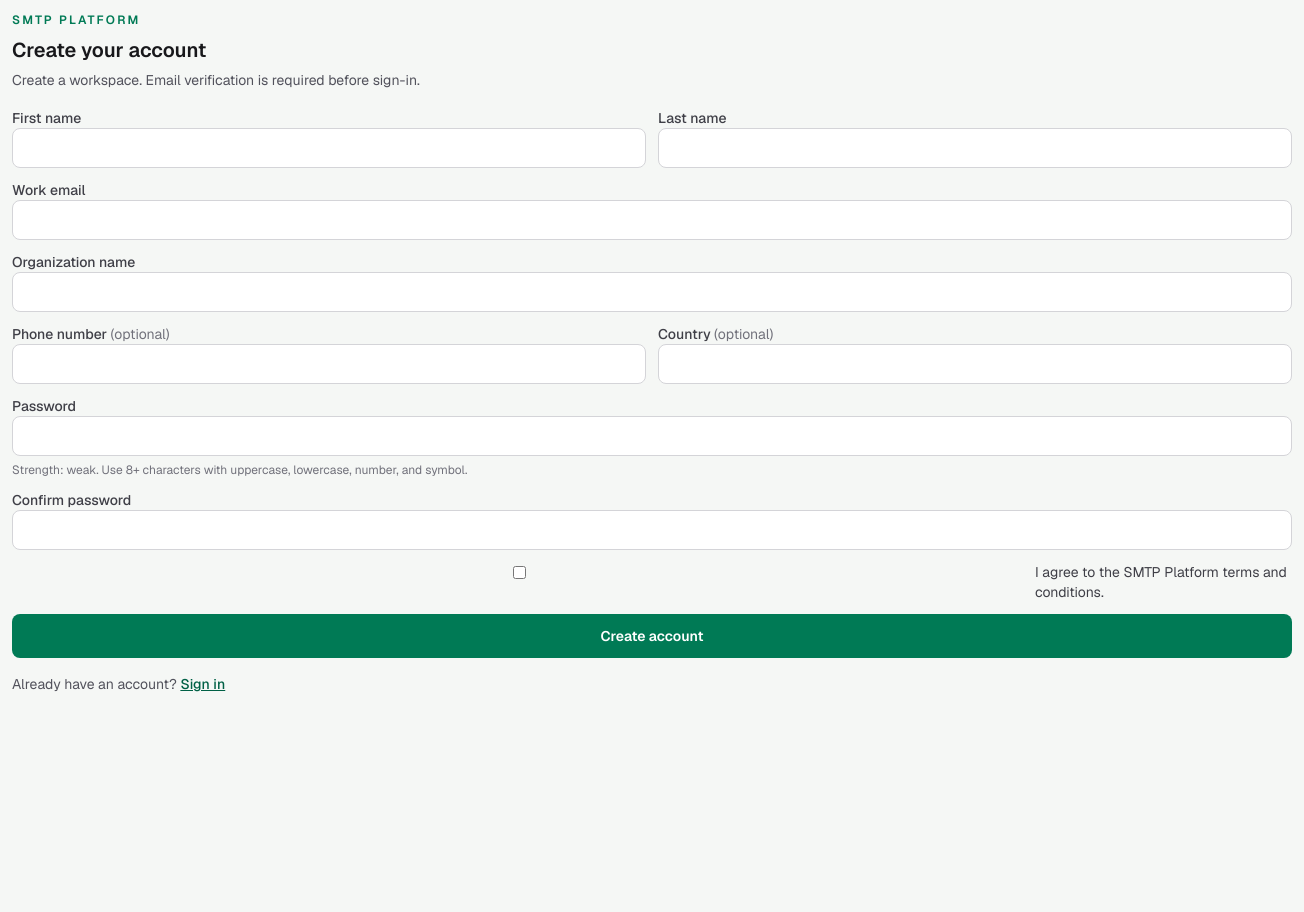
Test case: password authentication forms › submits signup and exposes the verification resend action
This screenshot has width=1304, height=912.
Type "Ada" into the field labelled "First name" at (329, 148), box [12,128,646,168]
Type "Lovelace" into the field labelled "Last name" at (975, 148), box [658,128,1292,168]
Type "owner@example.test" into the field labelled "Work email" at (652, 220), box [12,200,1292,240]
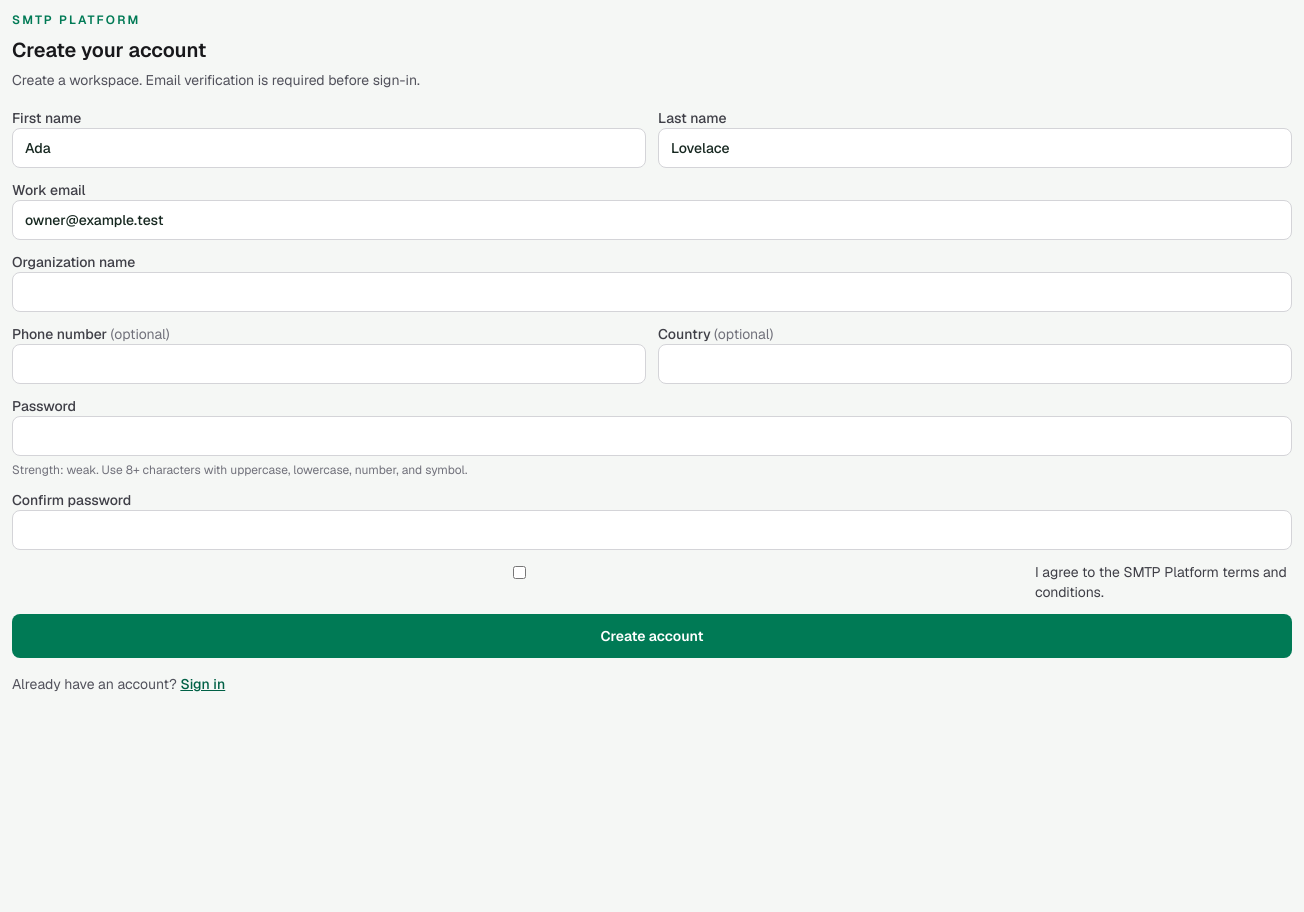
Type "Example Org" into the field labelled "Organization name" at (652, 292), box [12,272,1292,312]
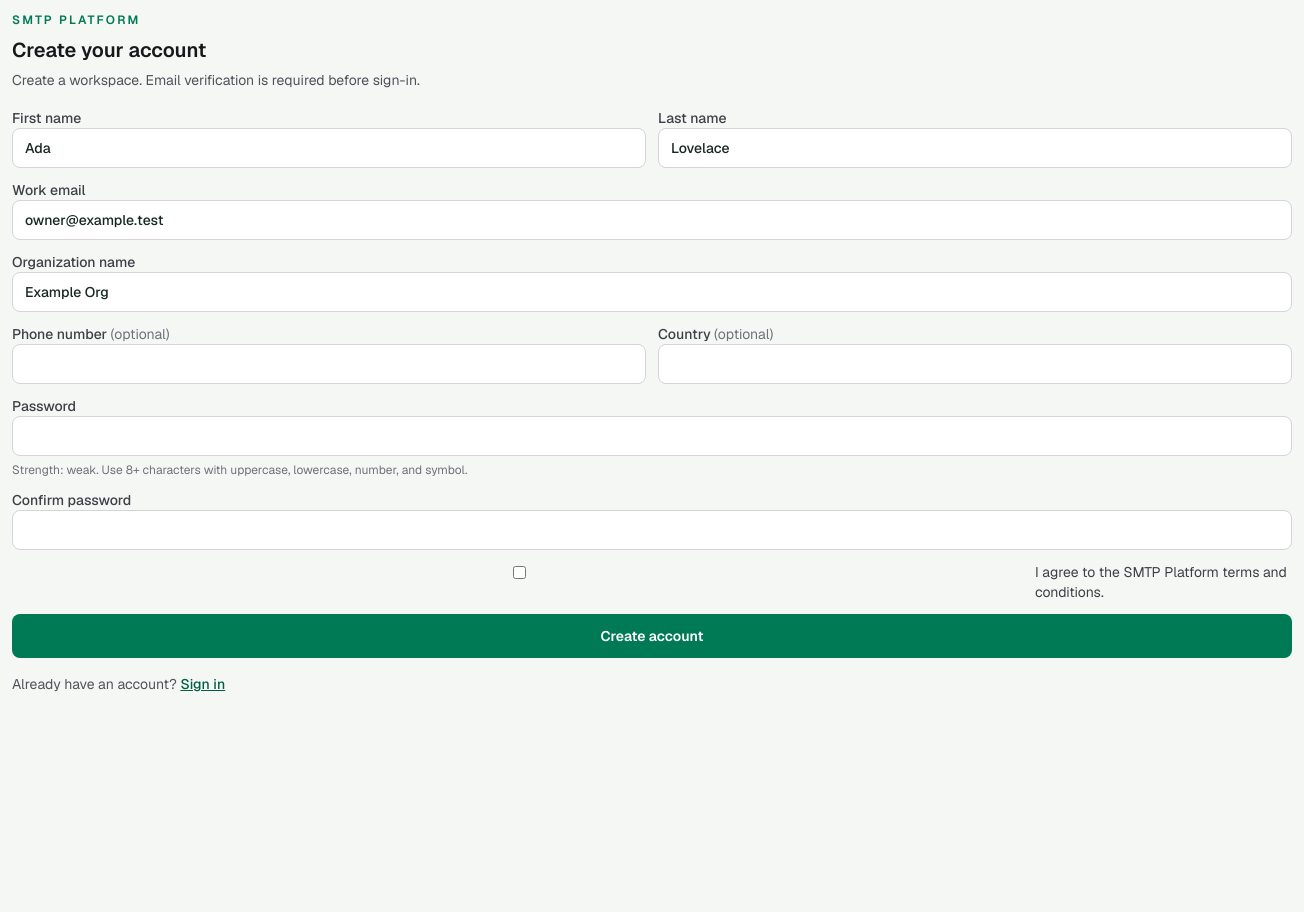
Type "A secure password1!" into the password field labelled "Password" at (652, 436), box [12,416,1292,456]
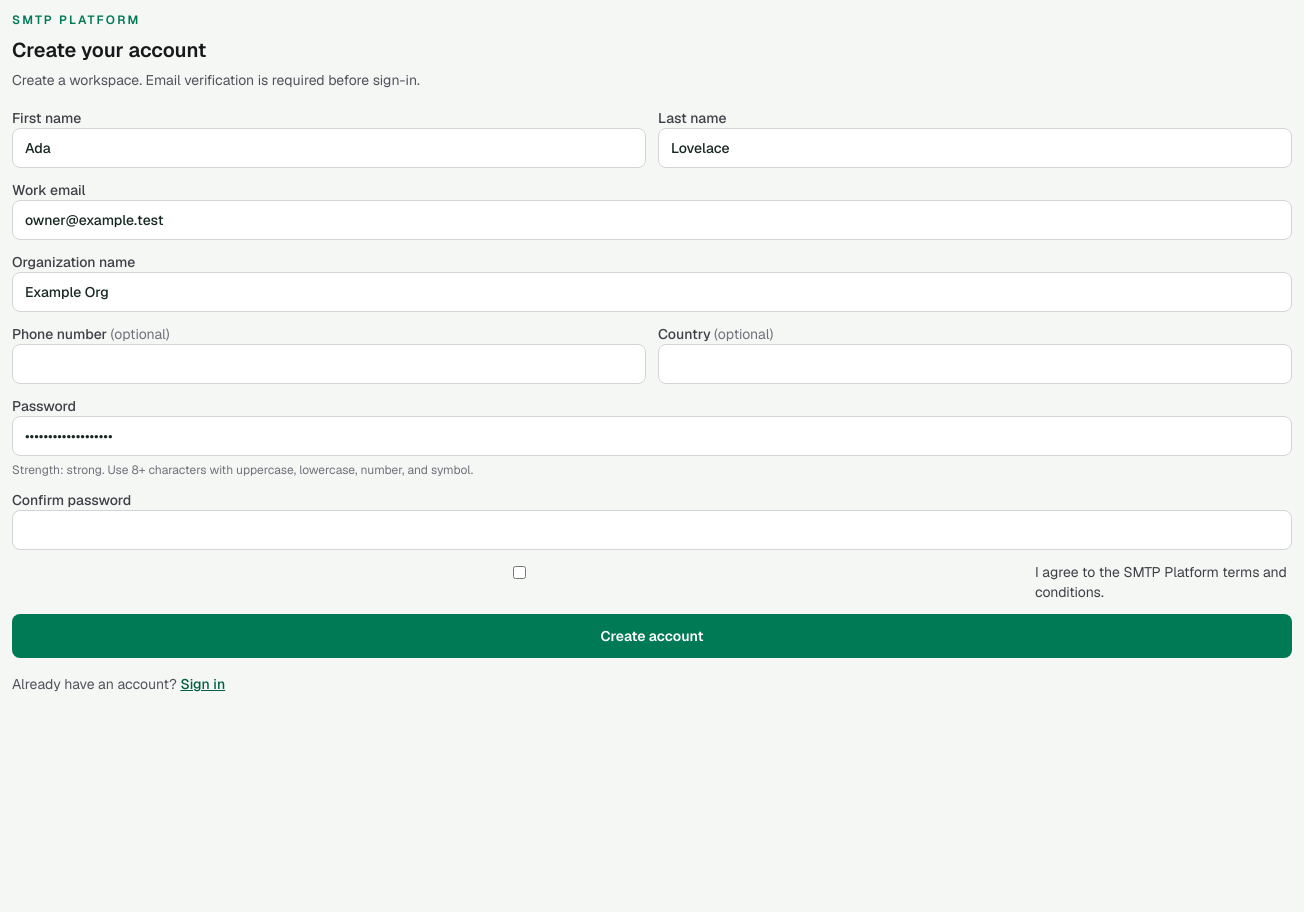
Type "A secure password1!" into the password field labelled "Confirm password" at (652, 530), box [12,510,1292,550]
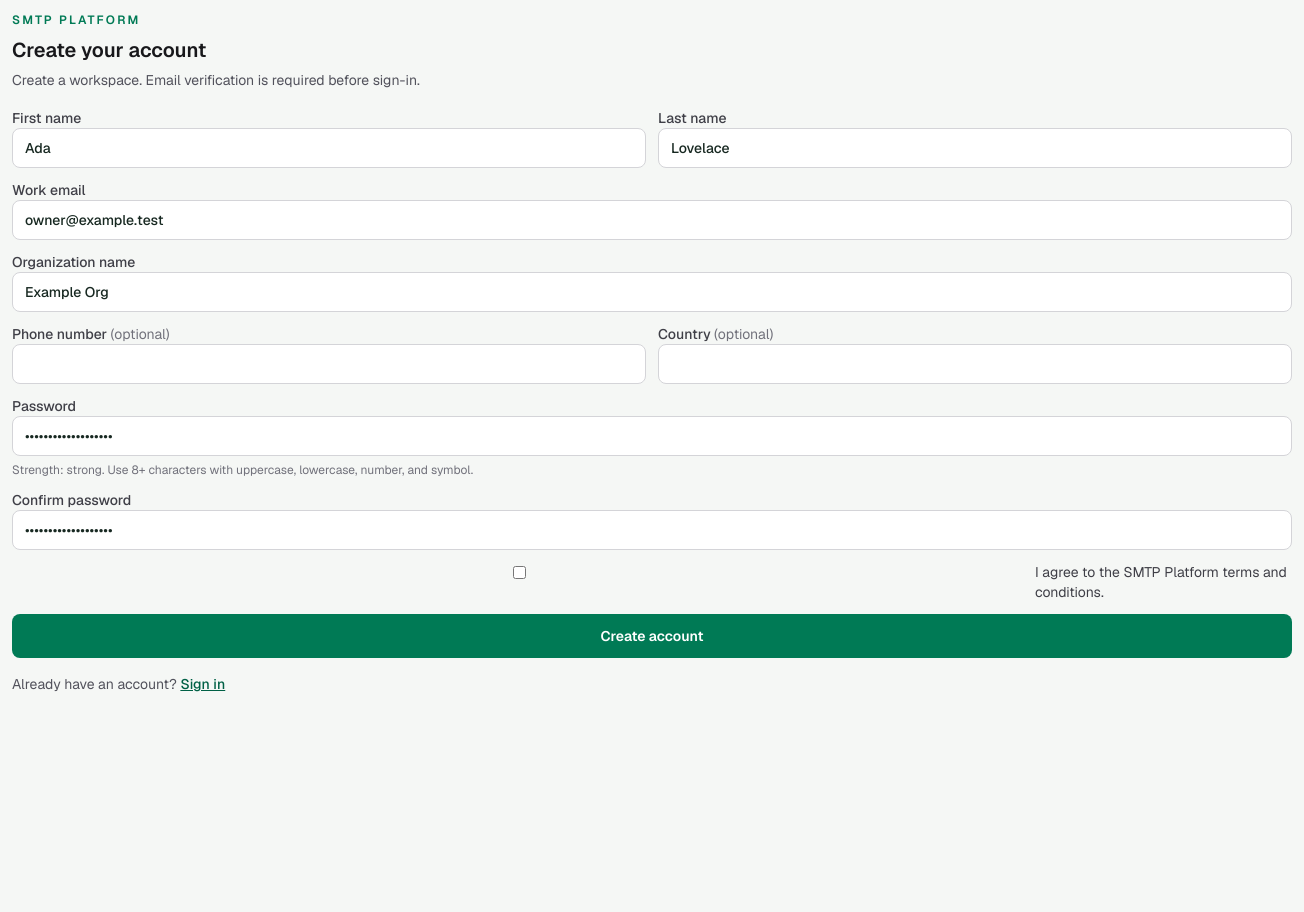
Click the checkbox at (520, 572), box [12,566,1027,579]
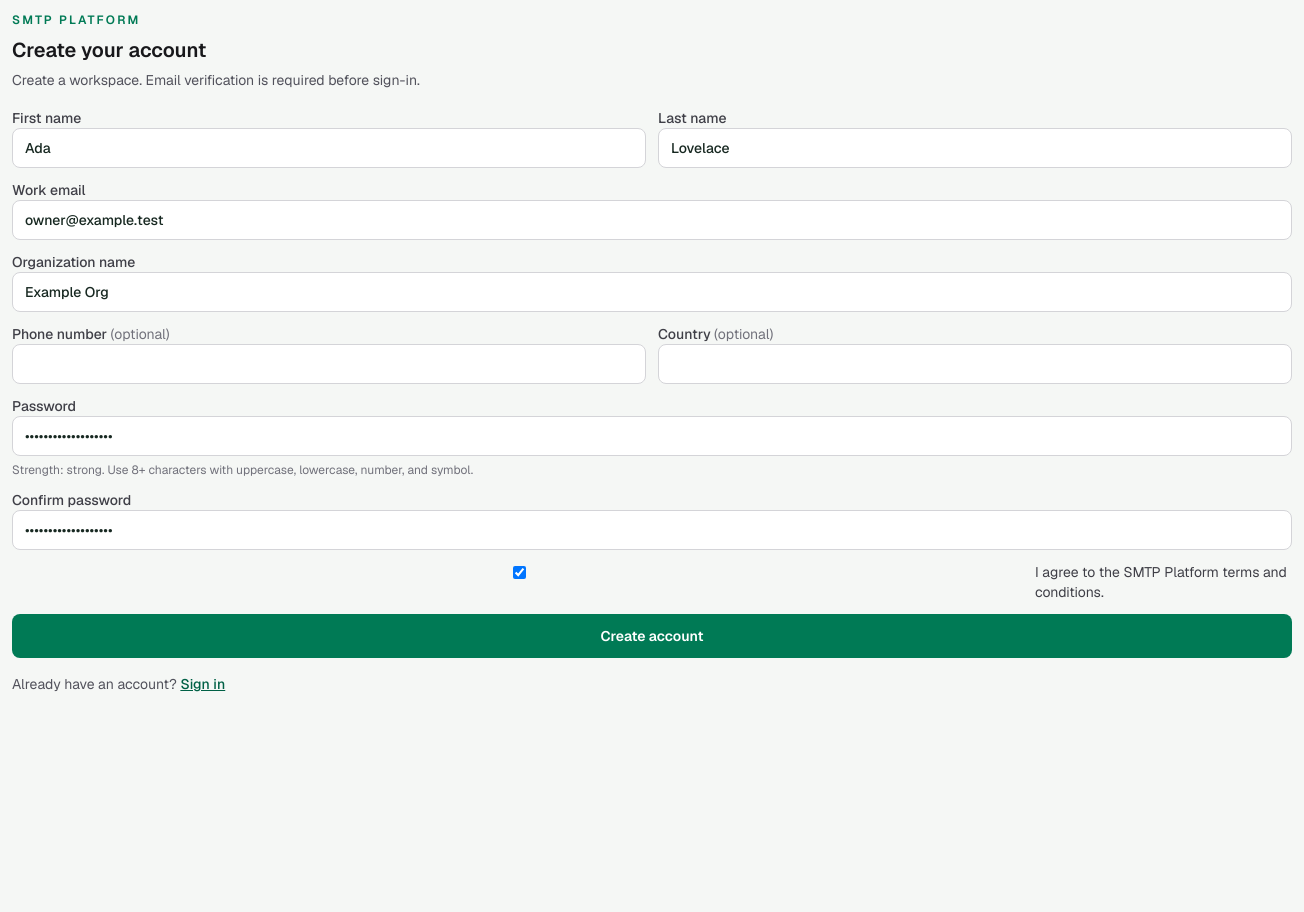
Click the button "Create account" at (652, 636), box [12,614,1292,658]
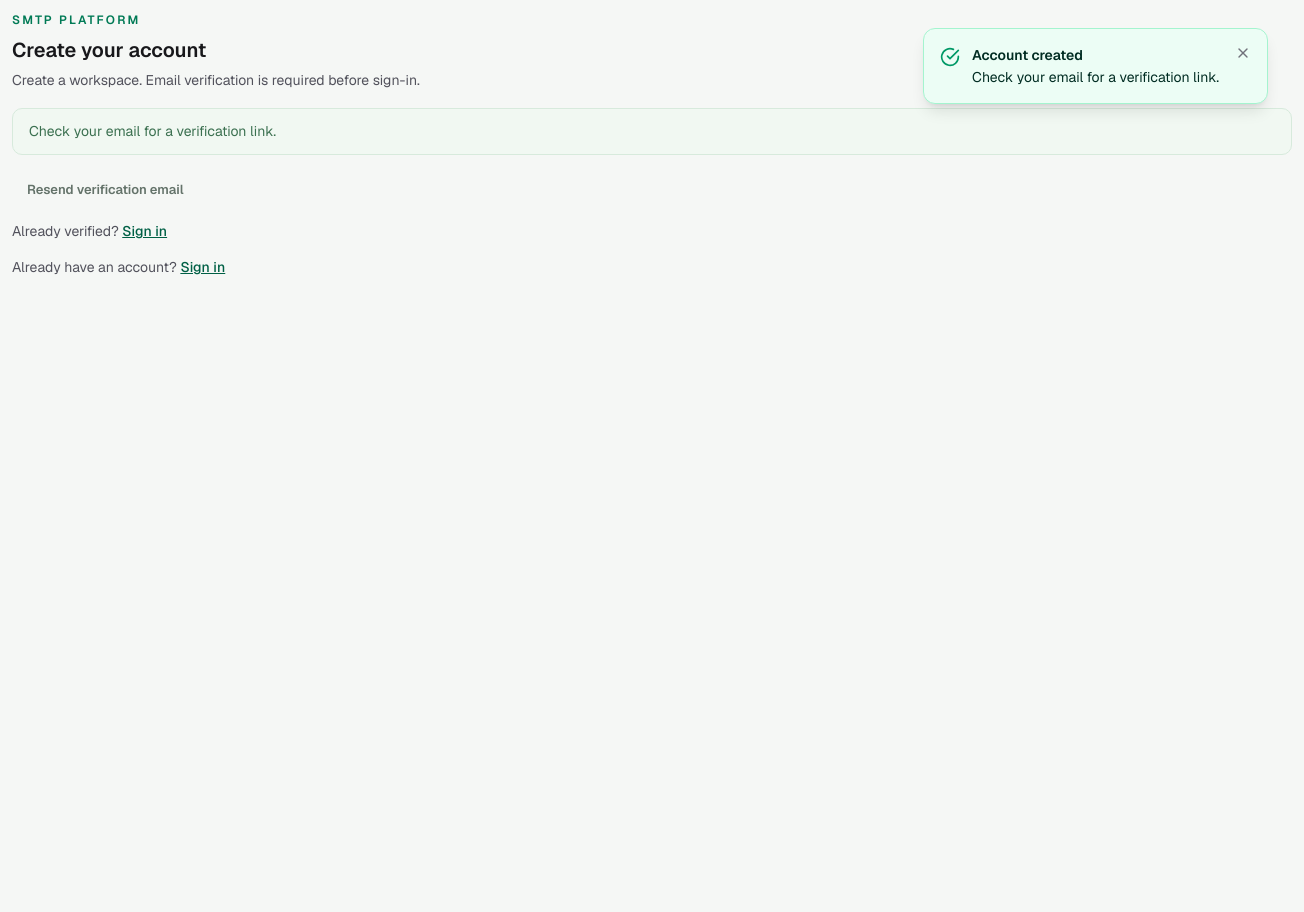
expect the message reads "Check your email for a verification link.": met, box [29,122,276,140]
expect the button "Resend verification email" is shown: met, box [12,171,198,209]
